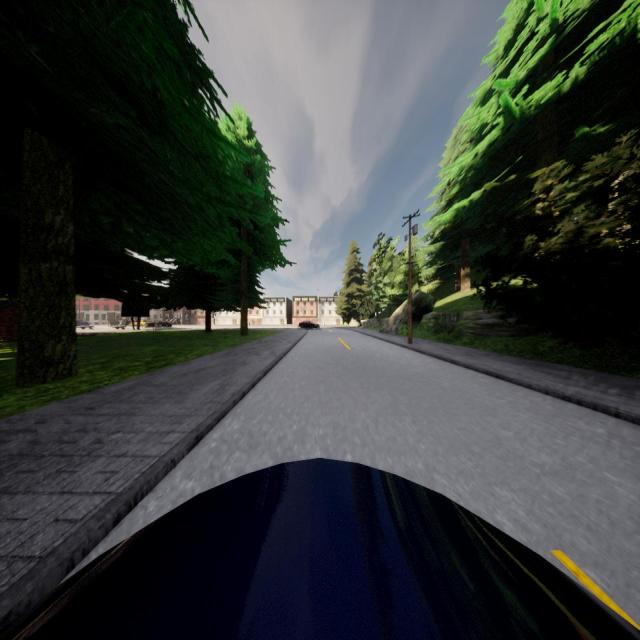Vehicle: (0, 458, 640, 640), (299, 320, 320, 330), (148, 320, 172, 328), (132, 319, 148, 326), (76, 320, 91, 326)
